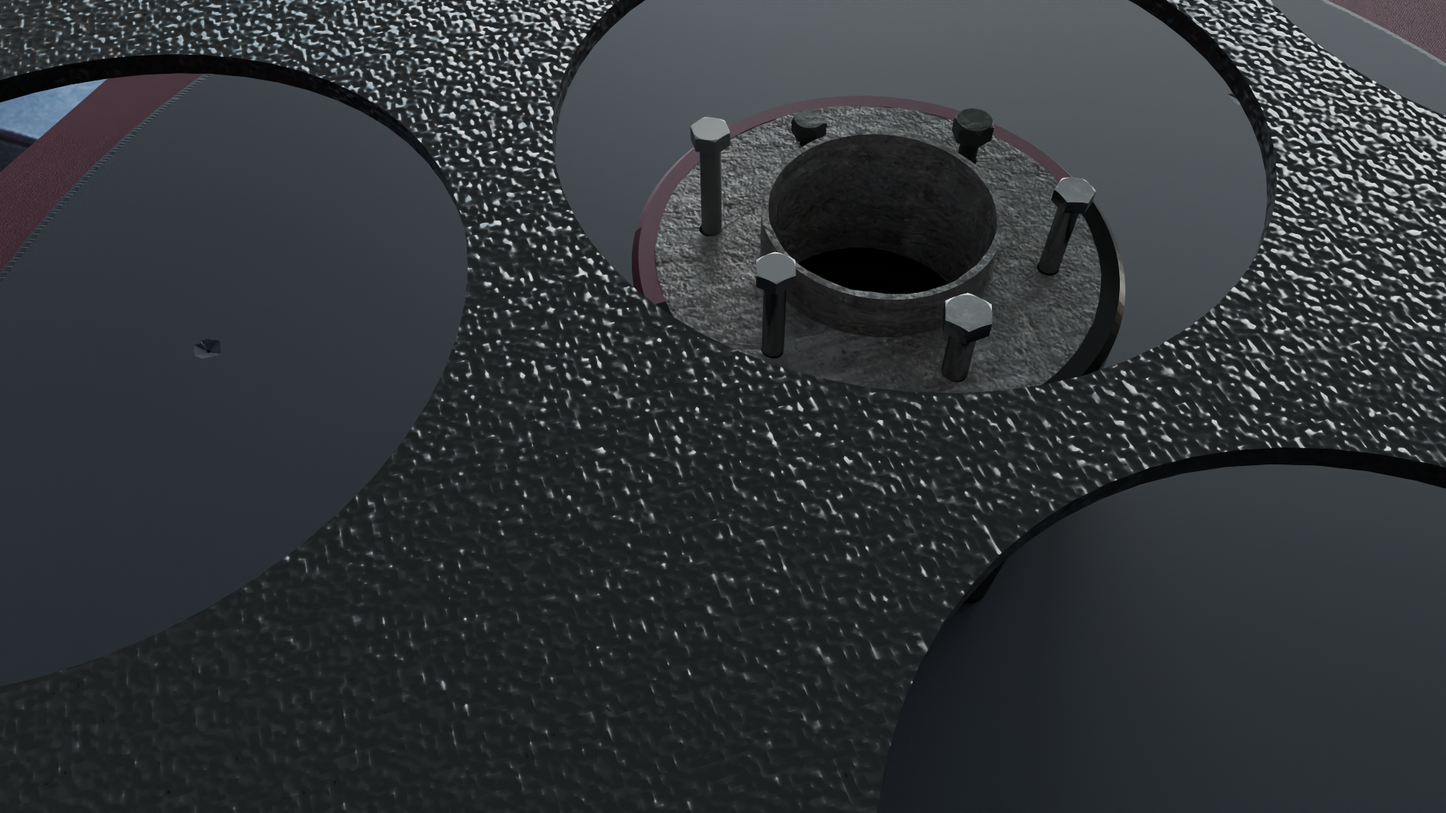bolt: (945, 293, 992, 332), (756, 252, 796, 284), (954, 108, 994, 136), (1054, 178, 1097, 203), (691, 117, 730, 143), (792, 108, 827, 132)
